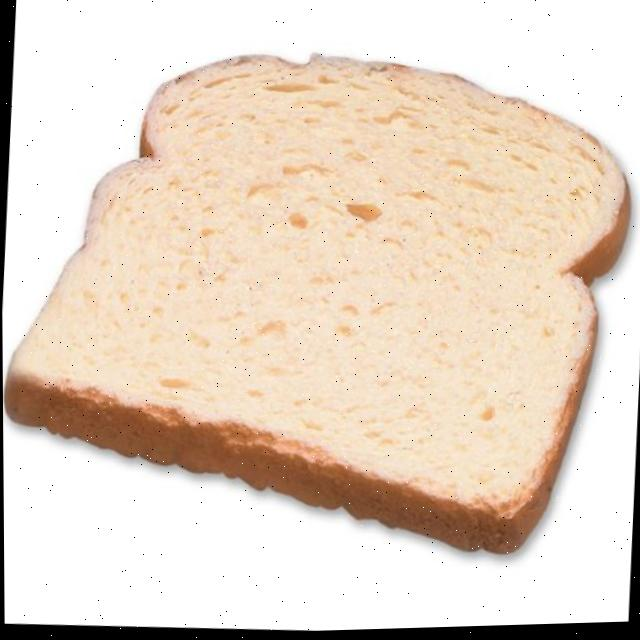Bread: (6, 57, 630, 555)
